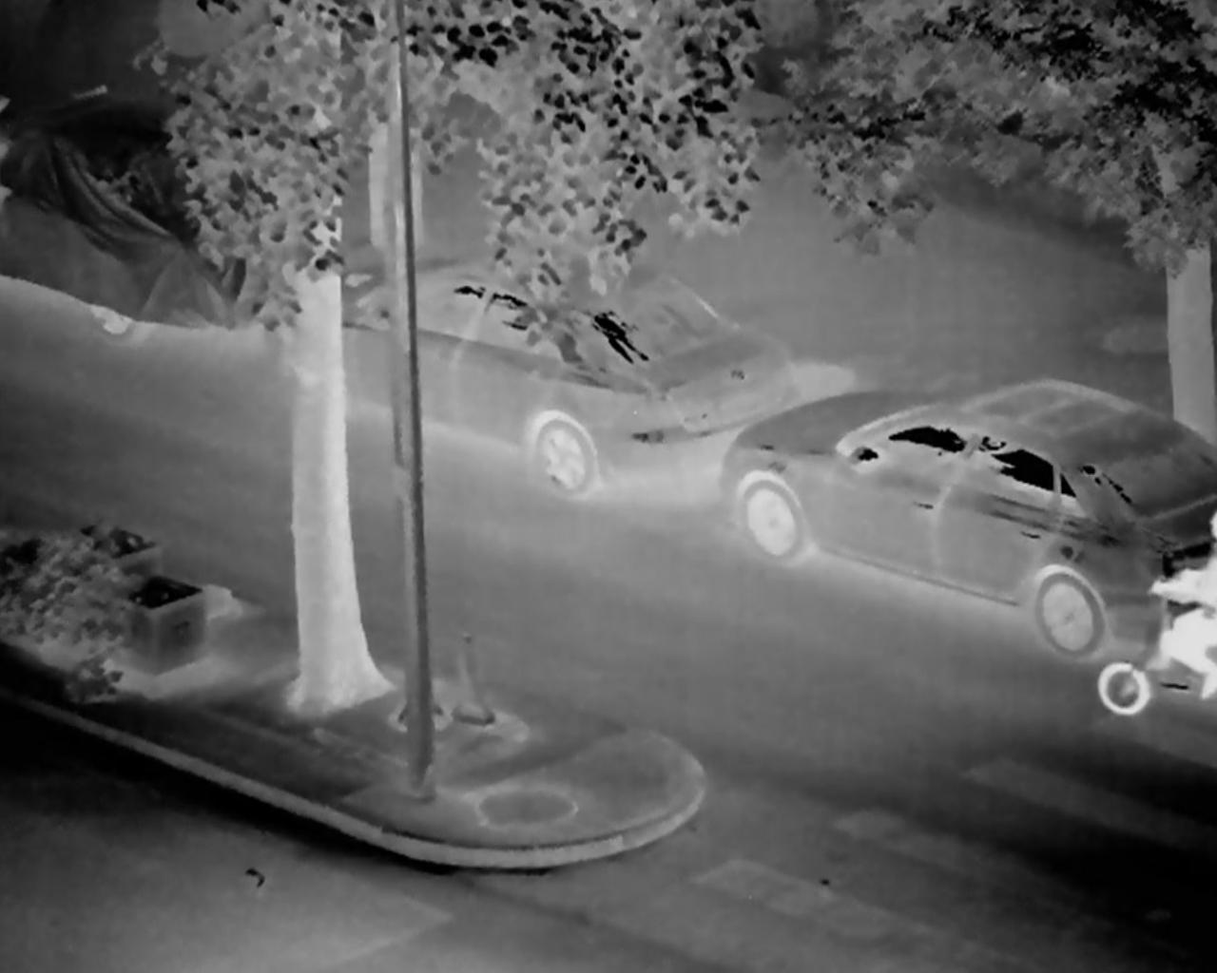person: (1148, 510, 1217, 697)
